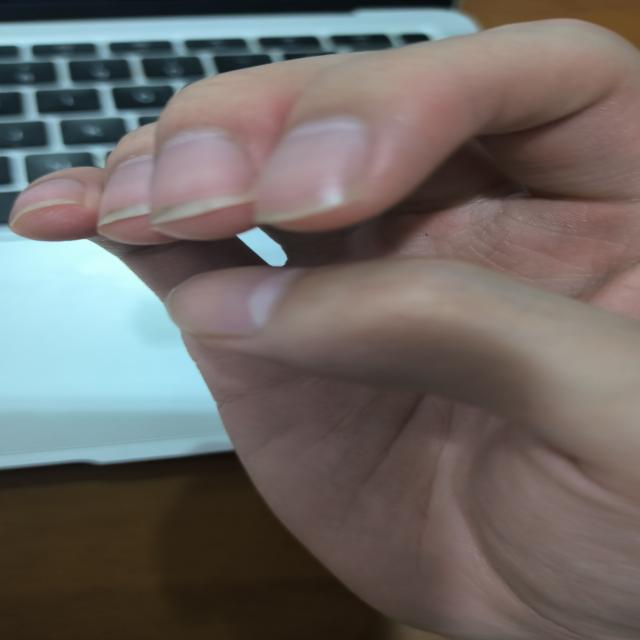Nail: (254, 117, 374, 224), (167, 265, 316, 337), (149, 130, 259, 224), (97, 156, 154, 227), (11, 179, 84, 228)
